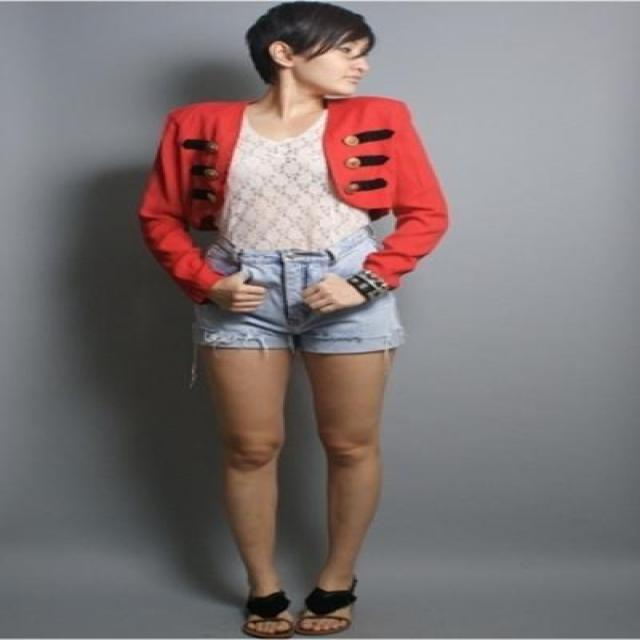jacket: (140, 97, 446, 287)
shirt: (221, 118, 366, 260)
shoe: (242, 580, 356, 639)
shorts: (195, 223, 402, 354)
